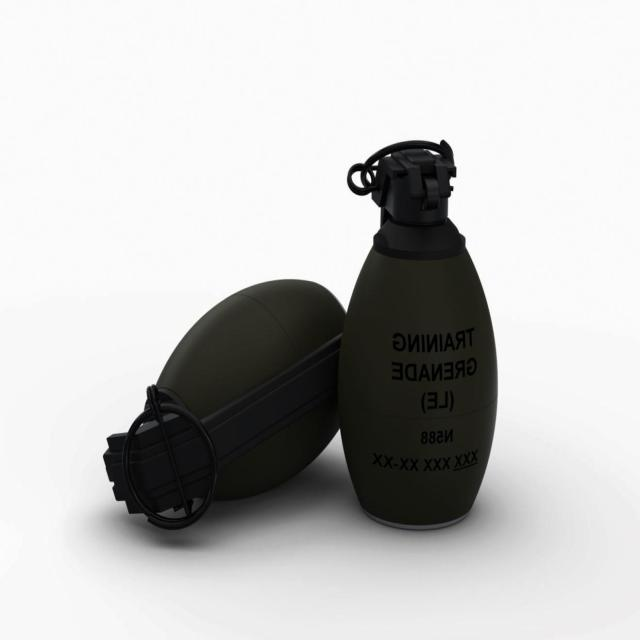grenade: (340, 140, 499, 531), (104, 280, 346, 532)
